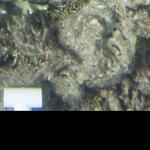dead: (1, 1, 148, 110)
